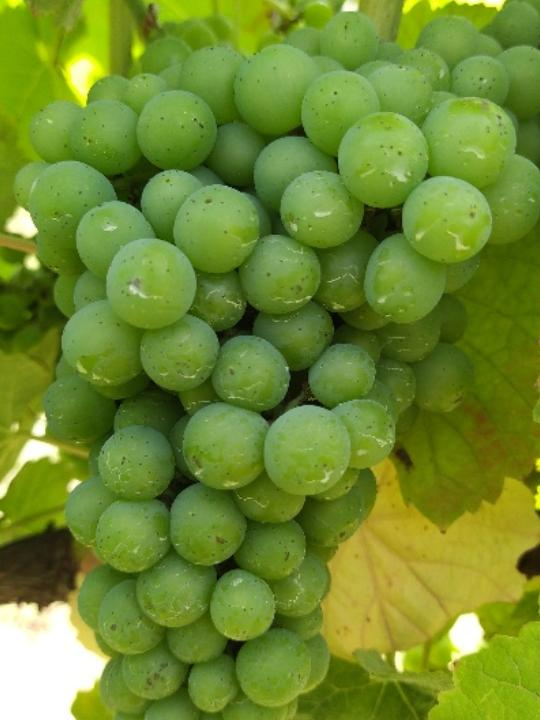grape: (6, 29, 540, 720)
